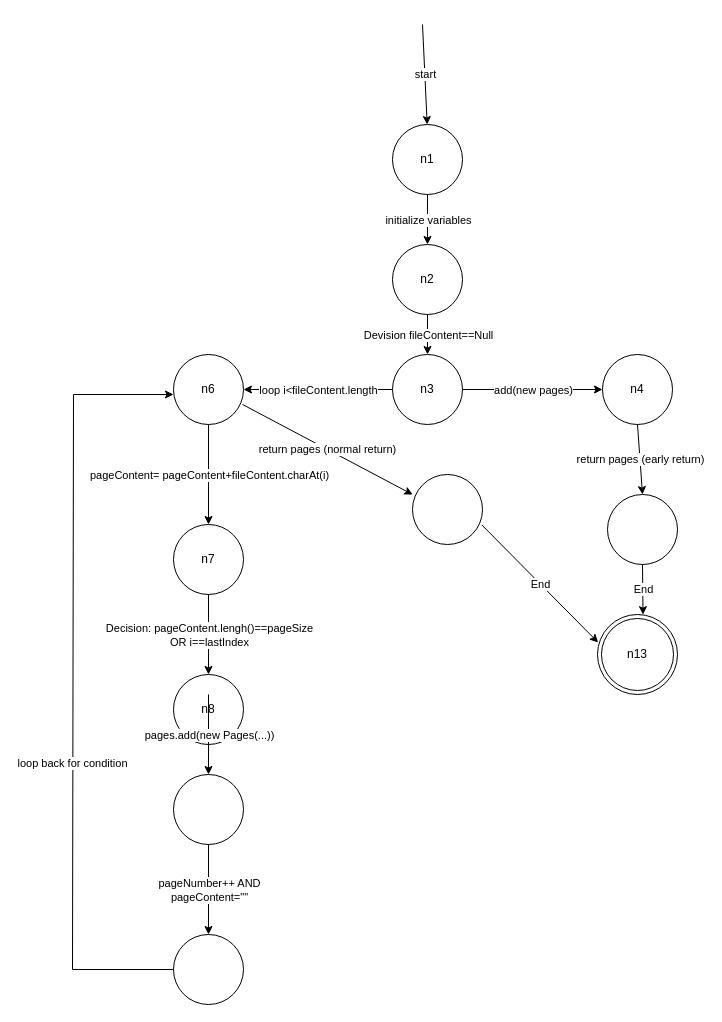
The diagram is 722 pixels wide and 1022 high, and some of its shapes have lost their labels. Here are the shapes that lost their labels. From the top down, the box of each, then its label:
(412, 474, 482, 544): n12
(606, 494, 678, 564): n5
(172, 774, 244, 844): n9
(172, 934, 244, 1004): n10
